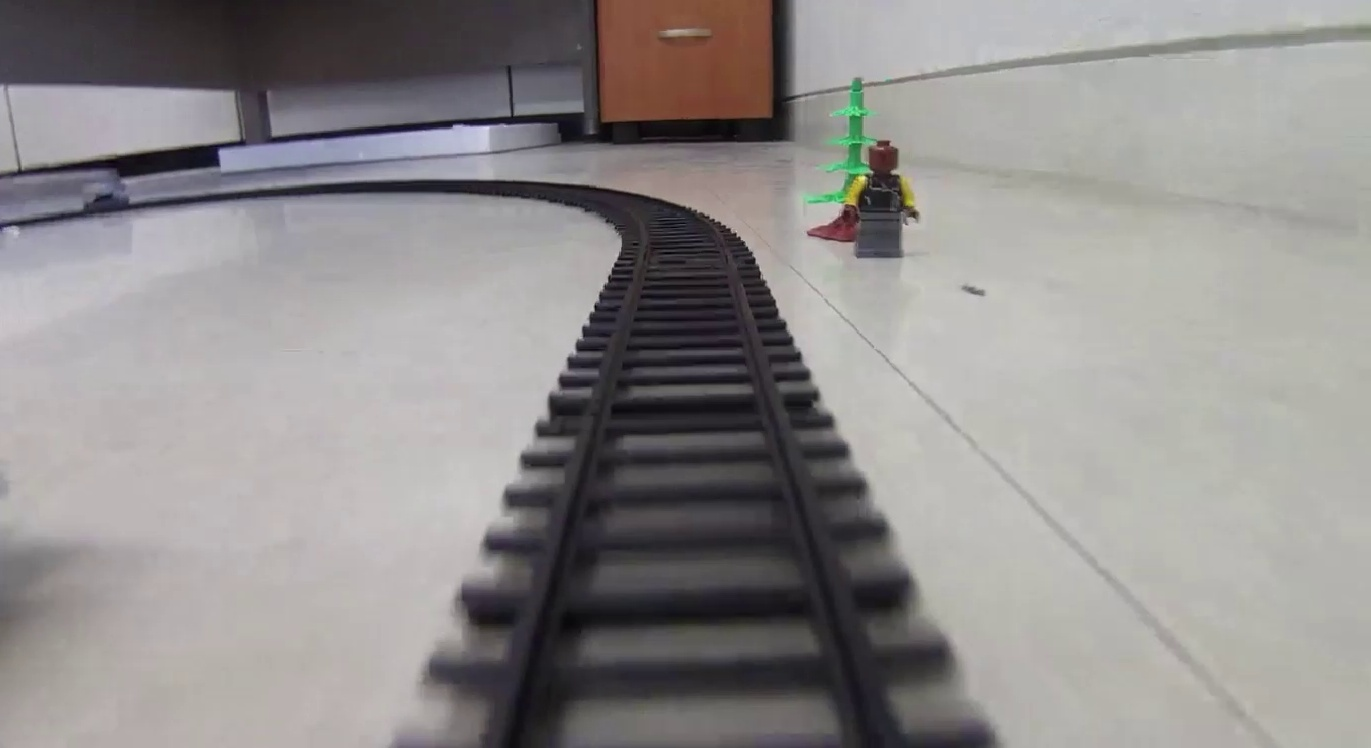people: (848, 138, 919, 256)
